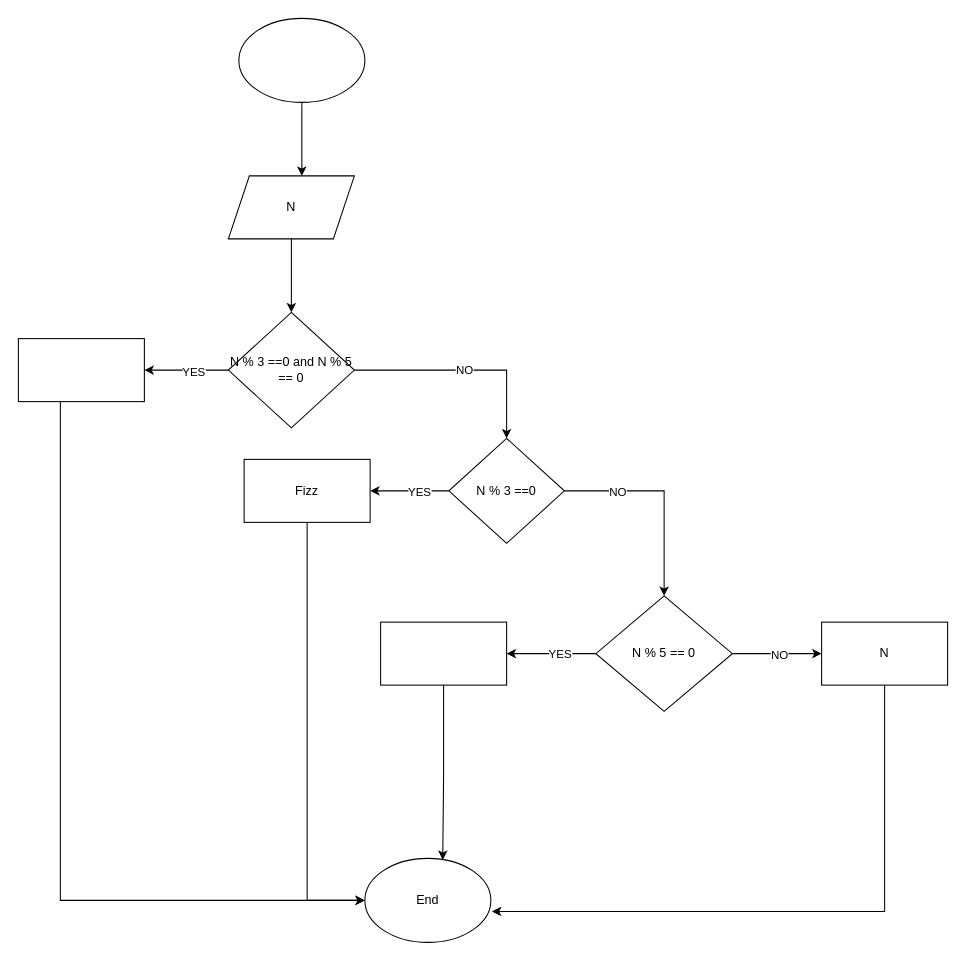
This 966x961 diagram has some shape labels left out. The centre of each missing label's shape, as x and y in pixels:
"Buzz" belongs at [443,653].
"FizzBuzz" belongs at [80,370].
"Star" belongs at [301,59].
